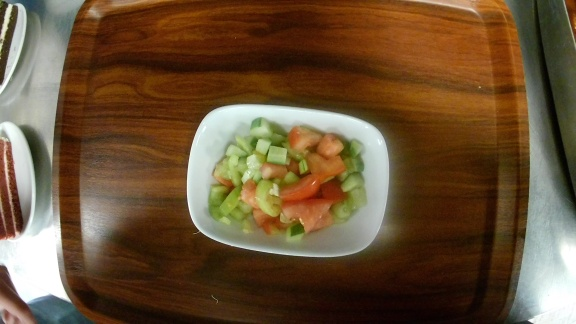cobansalata: (186, 104, 390, 257)
